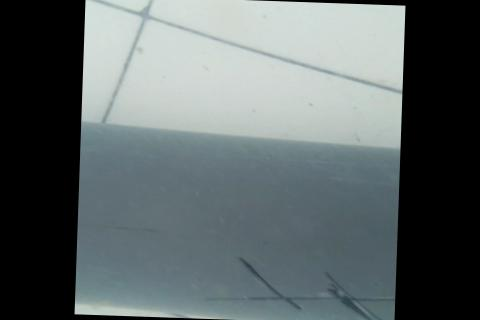keretakan: (202, 251, 396, 320)
